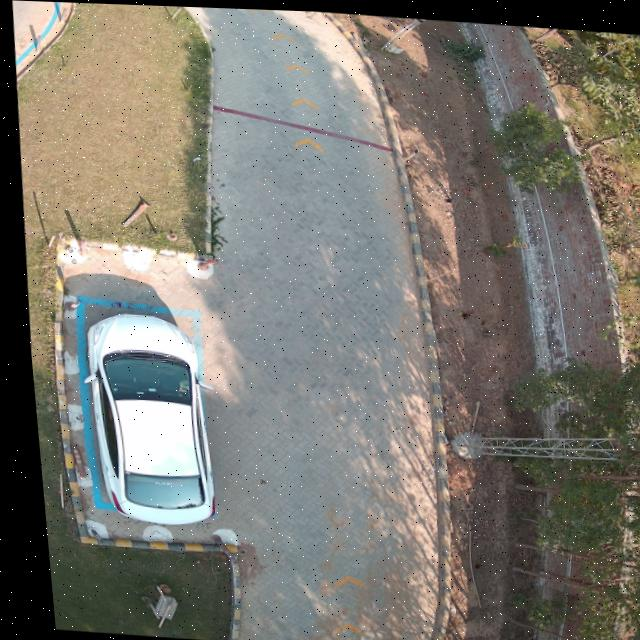car: (76, 312, 204, 523)
